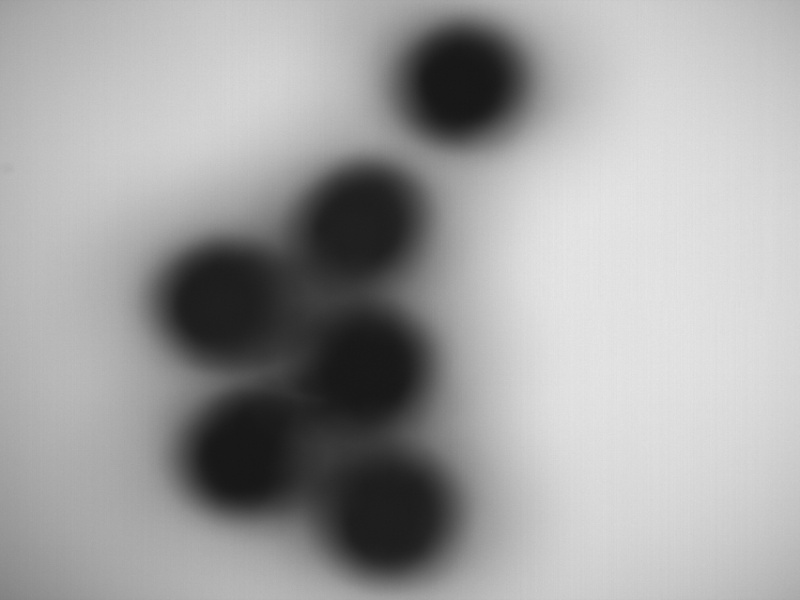bead: (306, 311, 438, 423), (400, 24, 524, 141), (296, 163, 421, 279), (166, 246, 288, 360), (334, 454, 448, 574), (195, 393, 301, 509)
